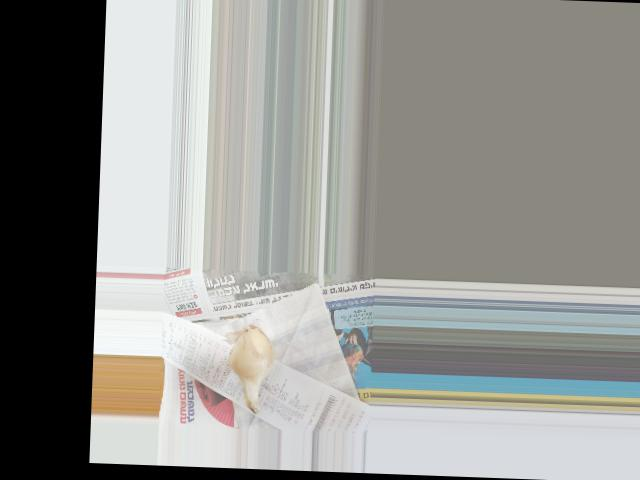onion: (228, 332, 276, 387)
